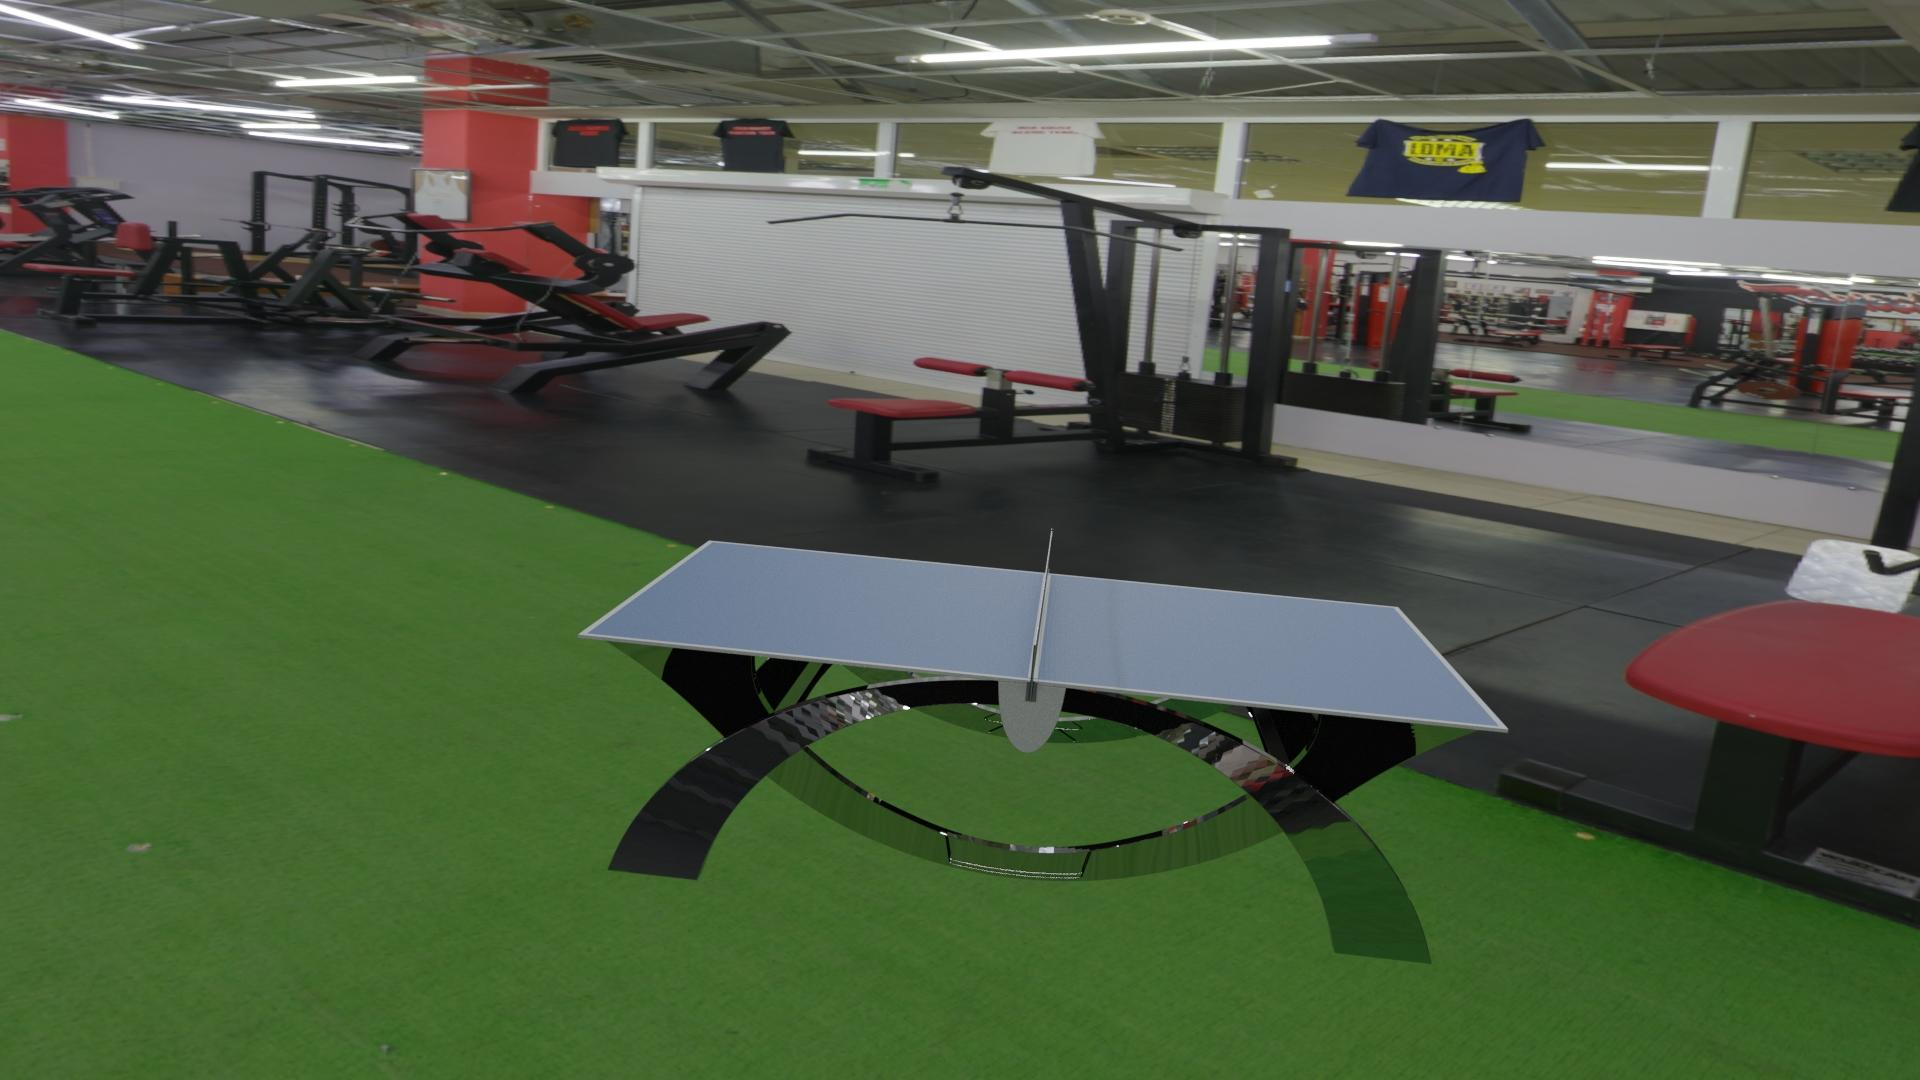table: (587, 542, 1499, 727)
